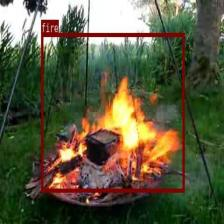fire: (41, 32, 184, 192)
